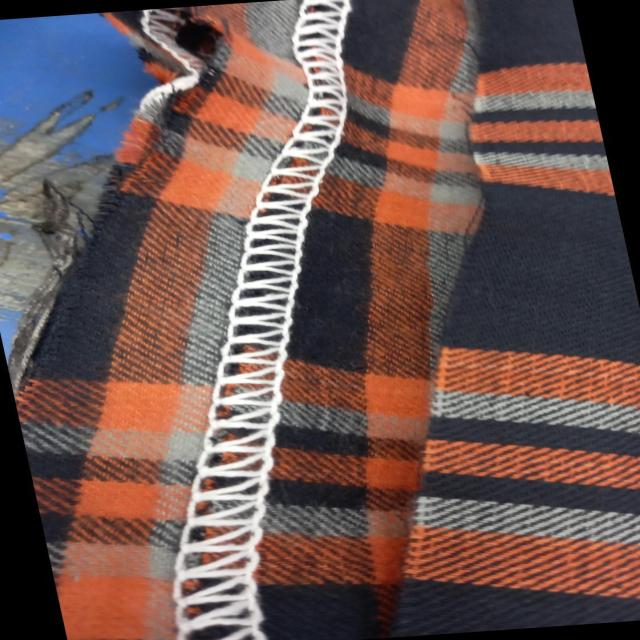gray stitch: (44, 0, 494, 640)
